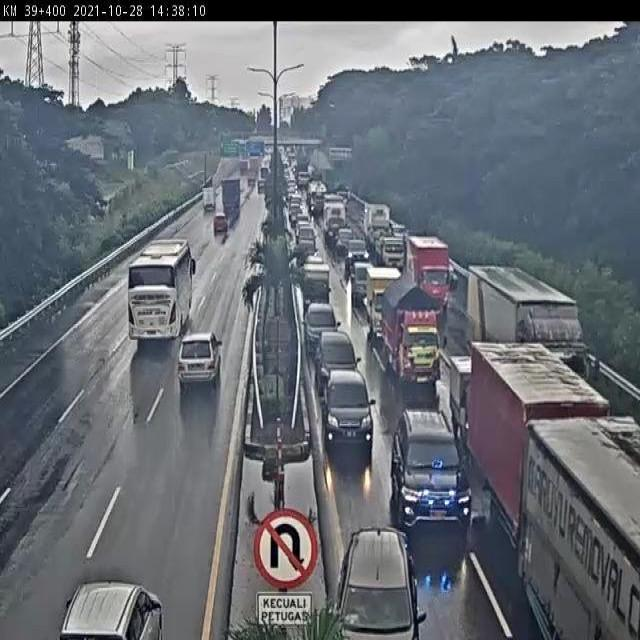big bus: (115, 234, 202, 354)
big truck: (472, 334, 605, 542), (527, 413, 640, 640), (465, 260, 604, 415), (383, 276, 440, 381), (447, 355, 495, 449), (367, 268, 402, 343), (221, 179, 246, 213), (202, 188, 218, 212)
car: (330, 530, 414, 640), (399, 407, 466, 544), (62, 560, 170, 640), (321, 371, 374, 466), (169, 324, 225, 399), (314, 324, 364, 388), (303, 300, 339, 353), (352, 263, 376, 309), (213, 212, 230, 236)
small truck: (302, 264, 333, 315)
